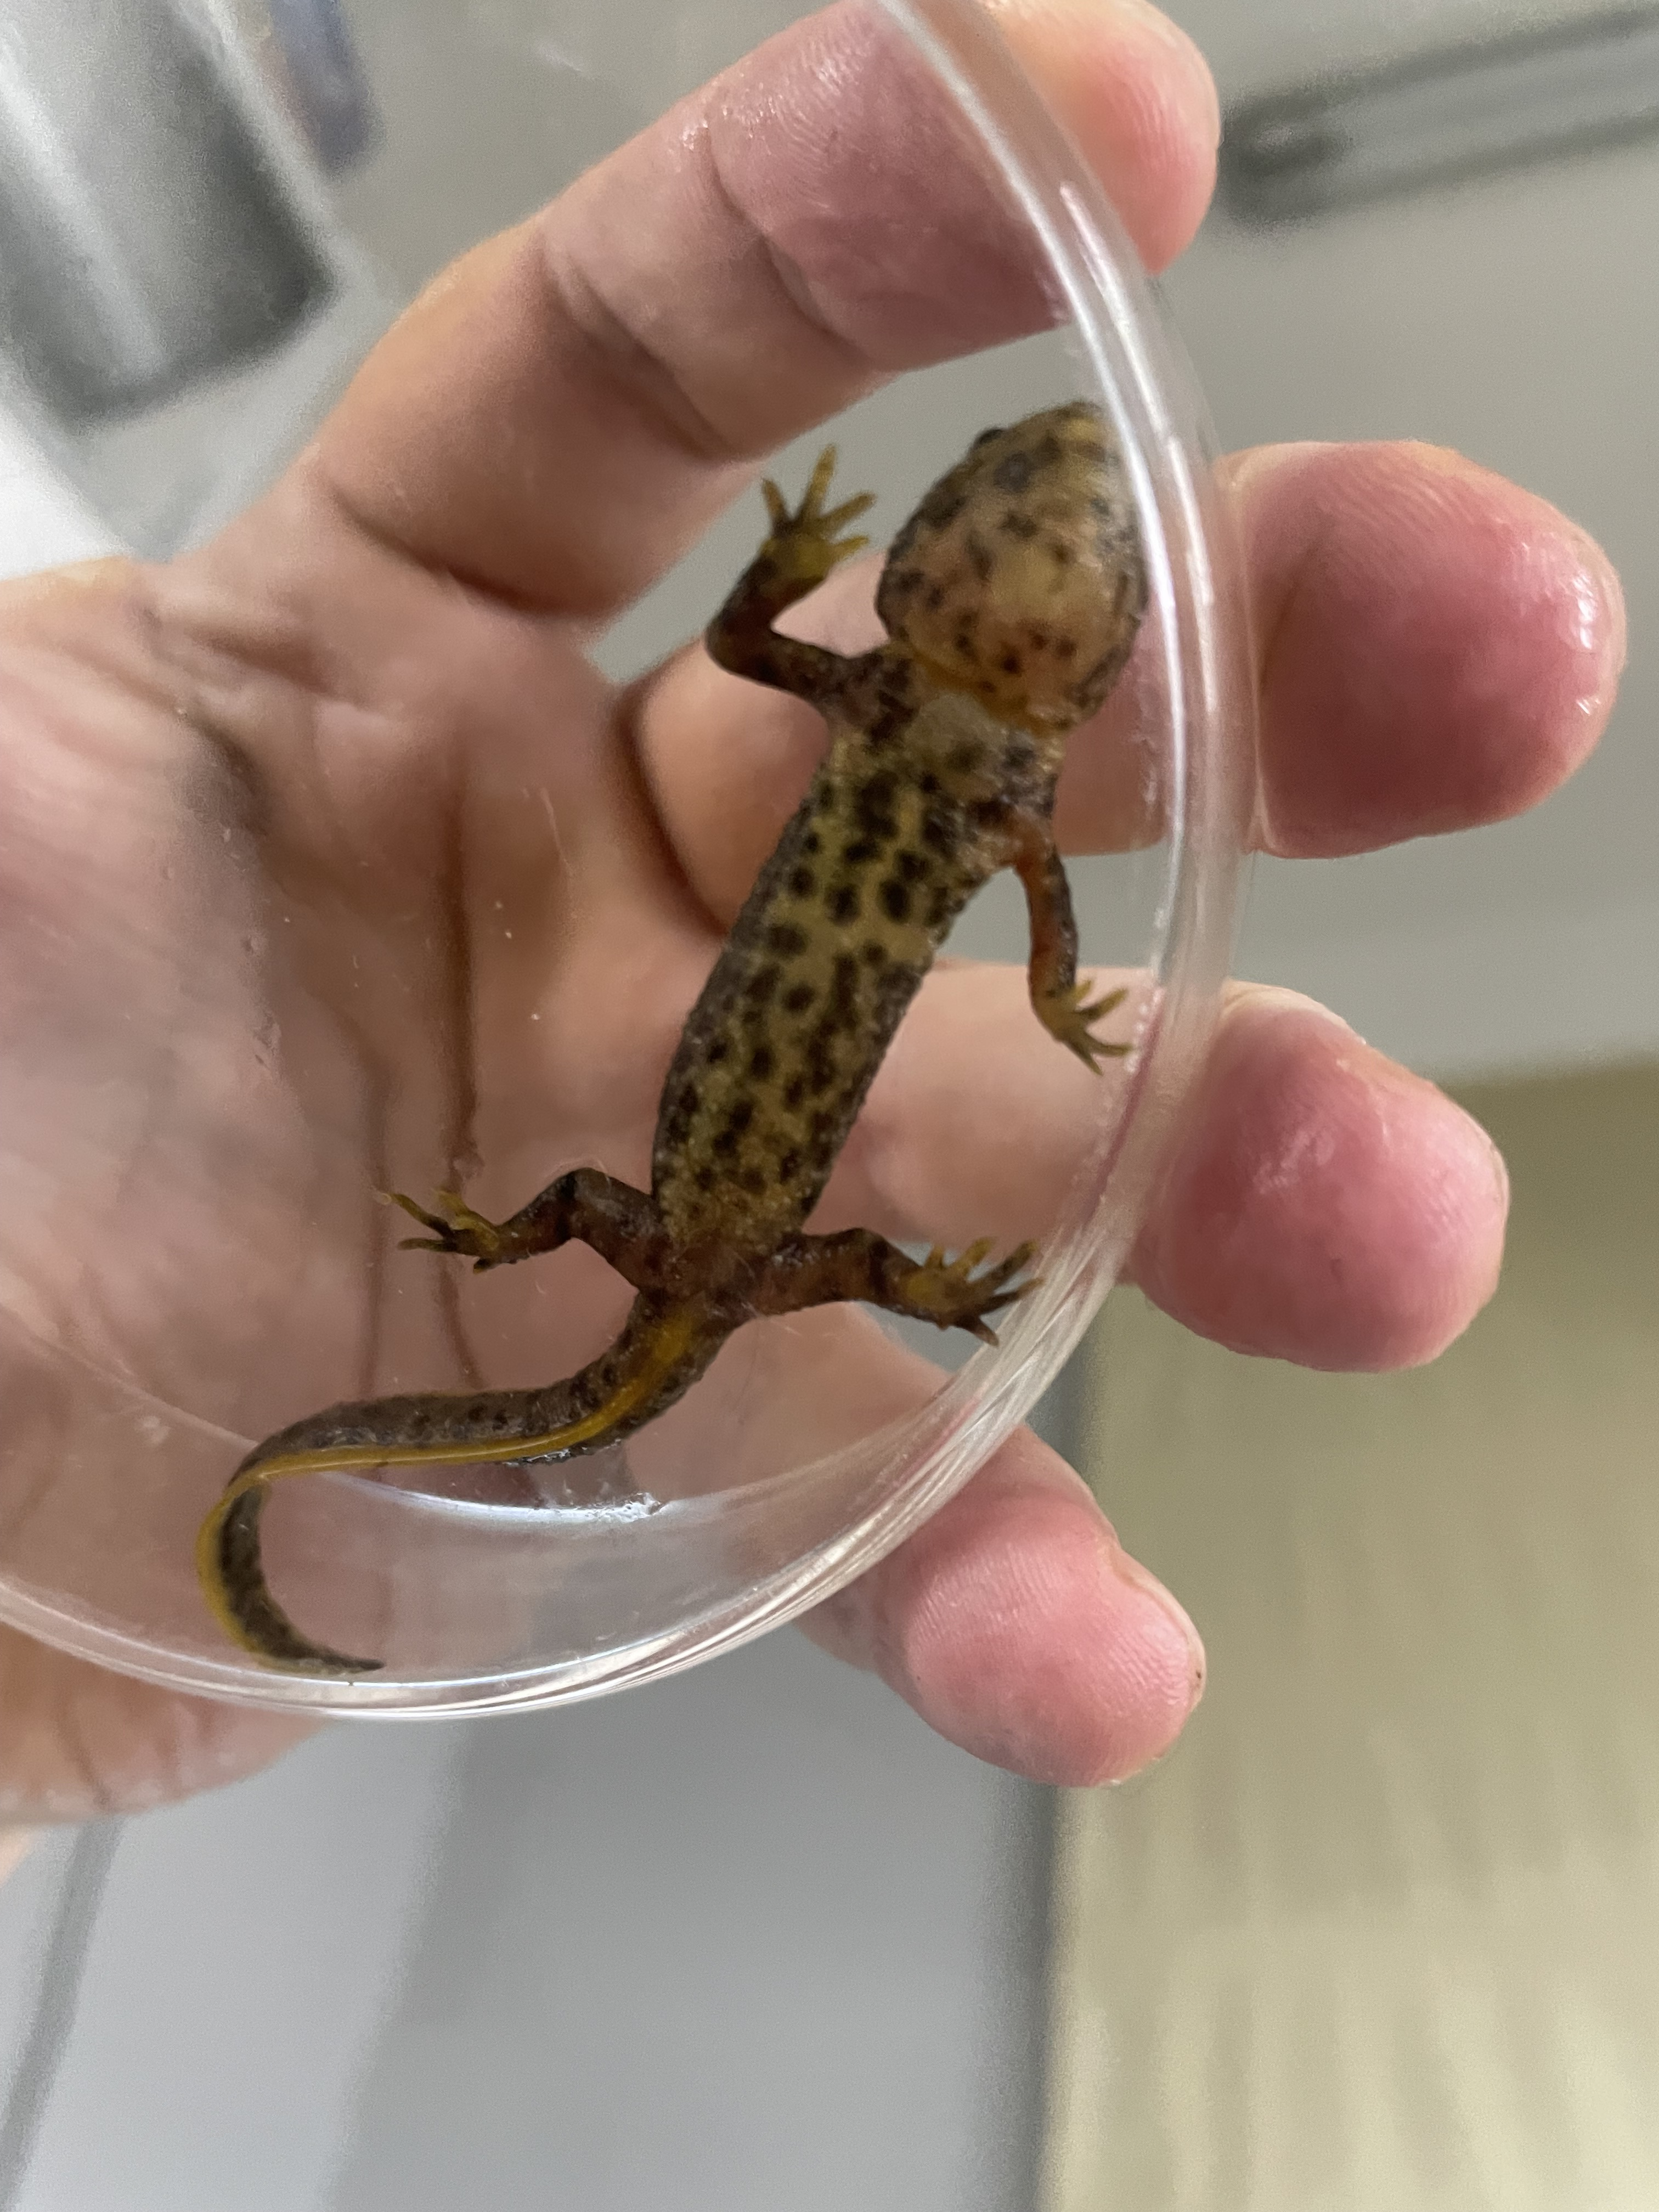newt_ribbed: (652, 725, 1011, 1235)
